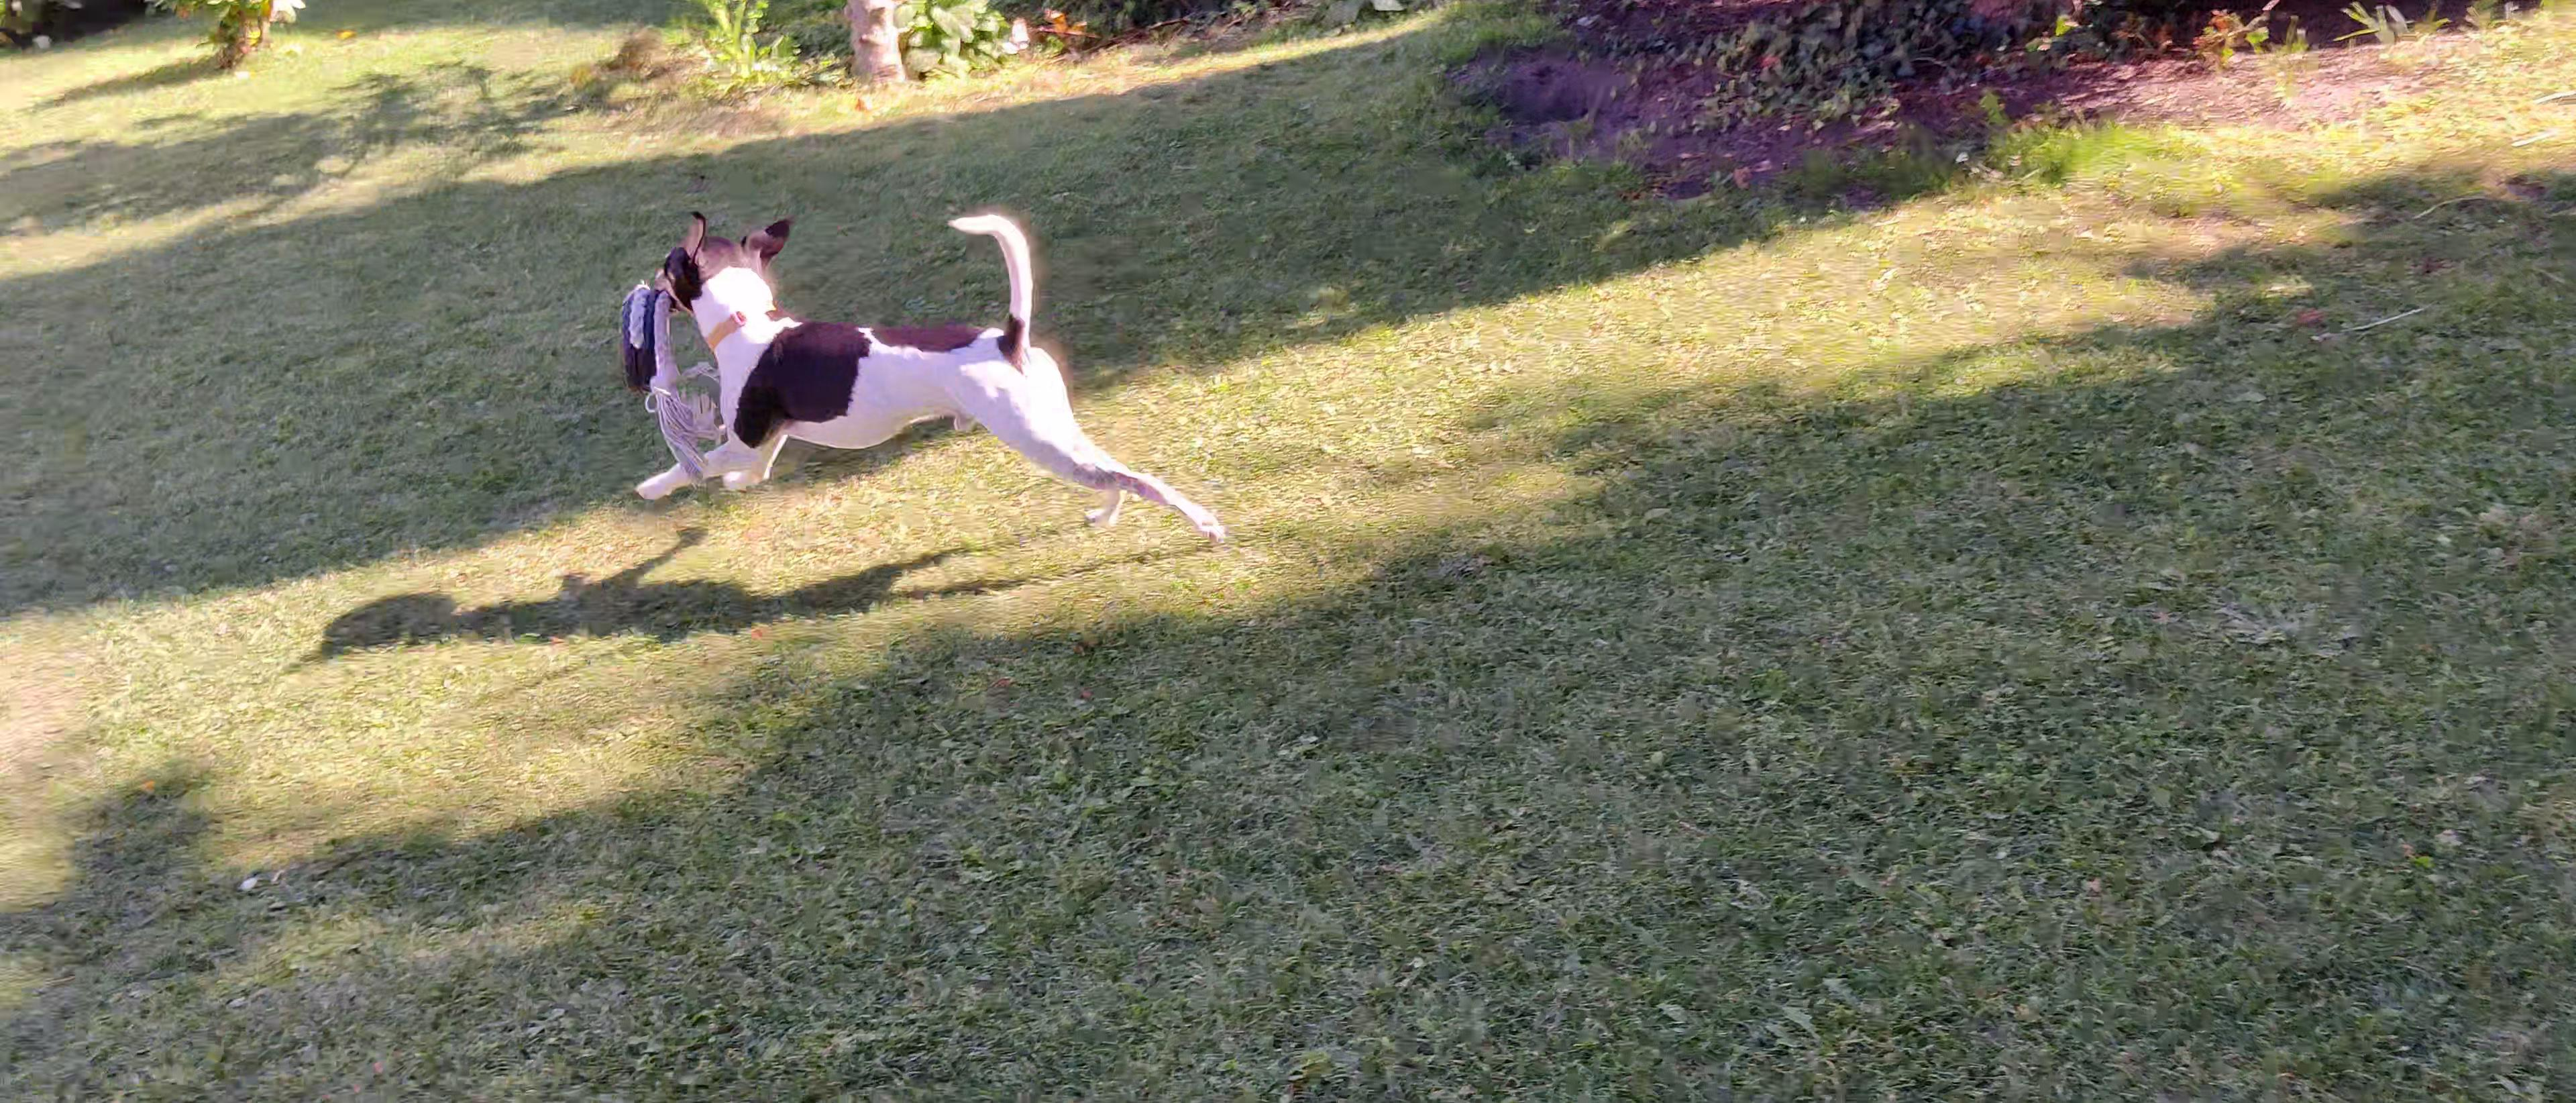Dog: (601, 174, 1245, 565)
